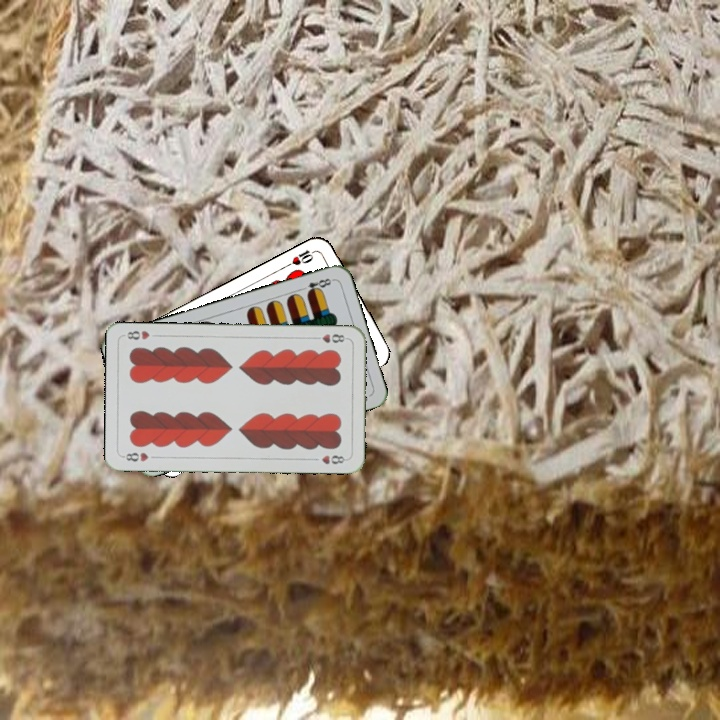E8: (296, 274, 336, 297)
H10: (281, 246, 320, 270)
H8: (309, 330, 350, 345), (120, 448, 151, 464)
